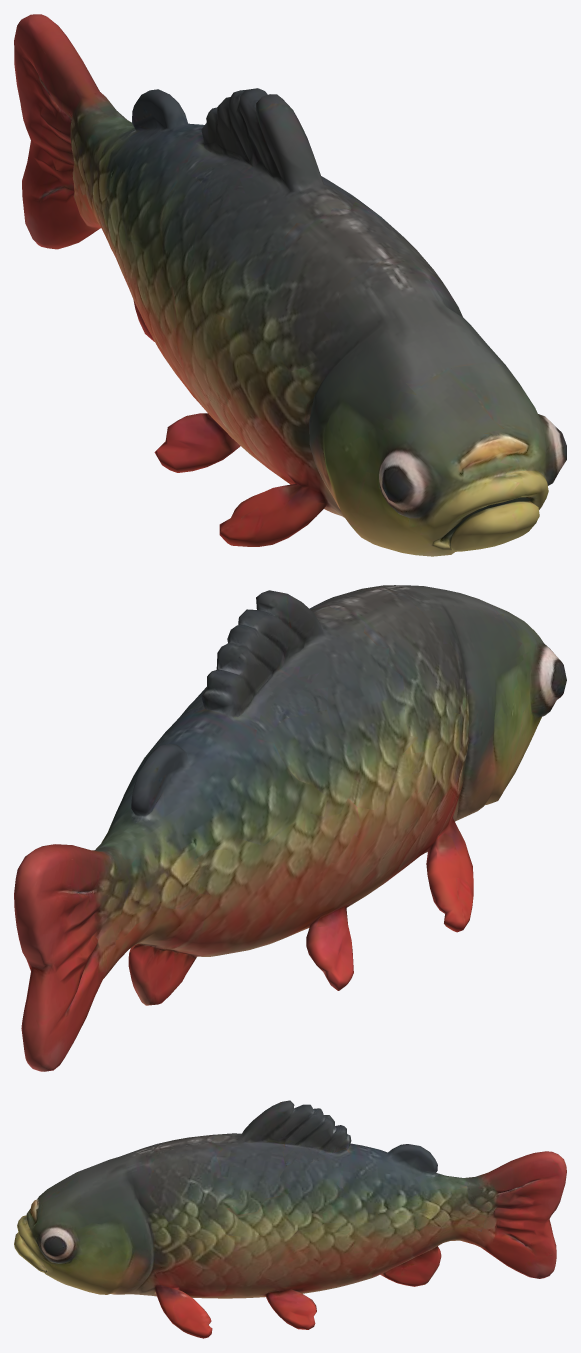
File: arapaima.glb
3 views of the same model, one above another, from view 1: azimuth 30°, elevation 25°; view 2: azimuth 150°, elevation 25°; view 3: azimuth 270°, elevation 25° (orthographic). The views are drawn at different scales.
Parts seen in each view (by area): view 1: tripo_node_36607617-ebdd-47cf-a074-bad0dd1f6318; view 2: tripo_node_36607617-ebdd-47cf-a074-bad0dd1f6318; view 3: tripo_node_36607617-ebdd-47cf-a074-bad0dd1f6318.
Part boxes in pixels (box(x1,y1,x2,y2)): tripo_node_36607617-ebdd-47cf-a074-bad0dd1f6318: box(14, 14, 566, 556); tripo_node_36607617-ebdd-47cf-a074-bad0dd1f6318: box(14, 585, 566, 1071); tripo_node_36607617-ebdd-47cf-a074-bad0dd1f6318: box(14, 1100, 566, 1338).
Size of the model in its own units: 0.2887 by 0.4087 by 1.
1 material, 1 textured.
